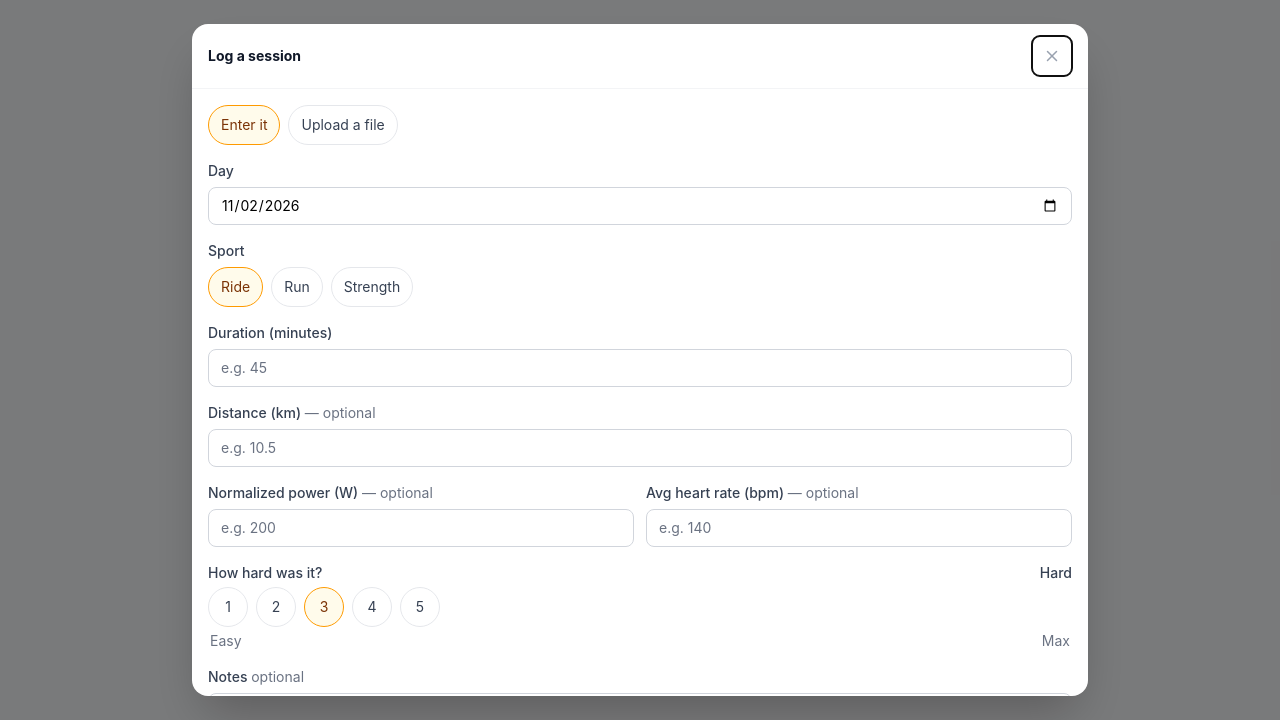
Scenario: LogSessionDialog: an entry of its own (ai-trainer-ops#47) › says why when saving fails, and stays open
In the number field labelled "Duration (minutes)": (640, 368) [208,349,1072,387], type "30"
(page scrolled)
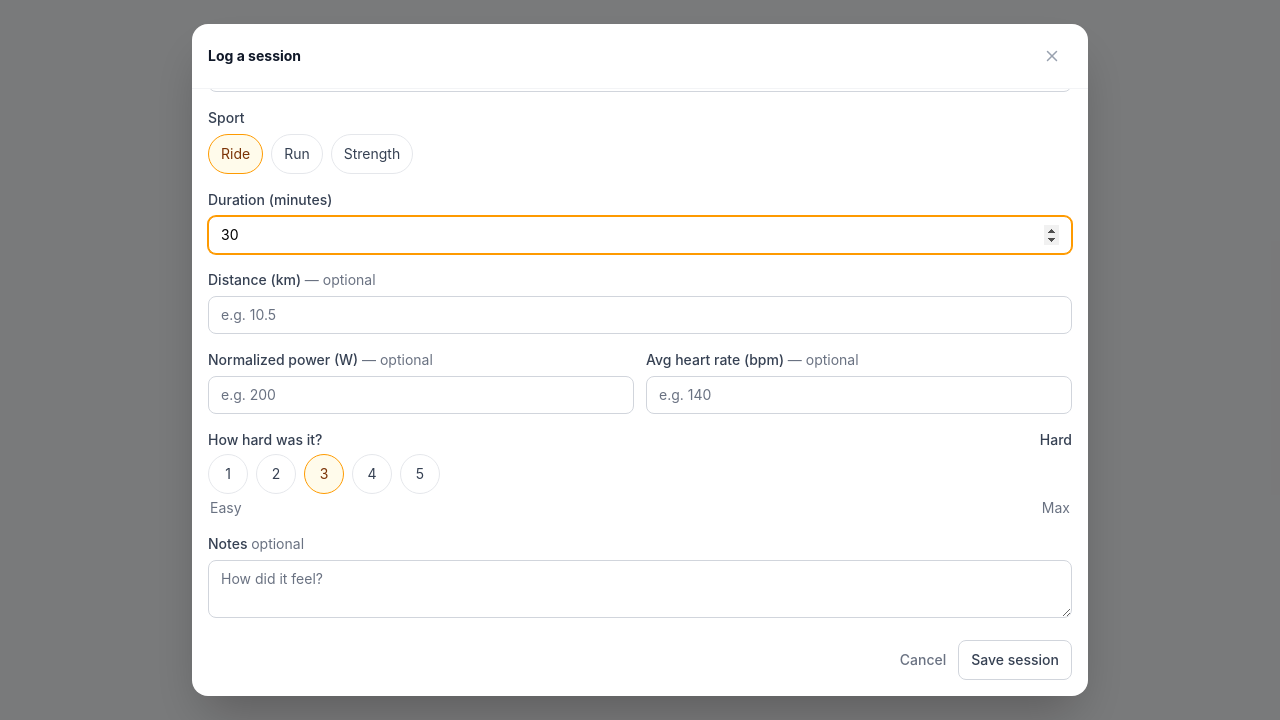
Click the button "Save session": click(1015, 660) [958,640,1072,680]
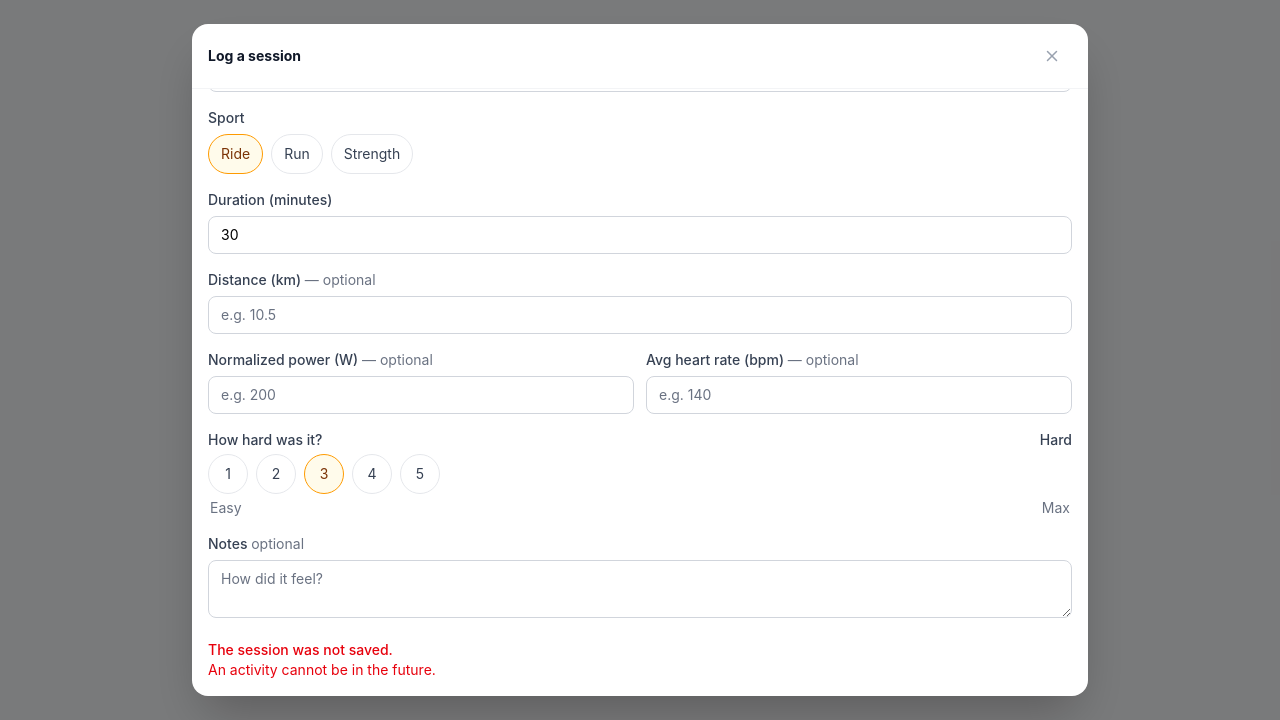
Now the message shows "cannot be in the future", box [208,661,436,678]
